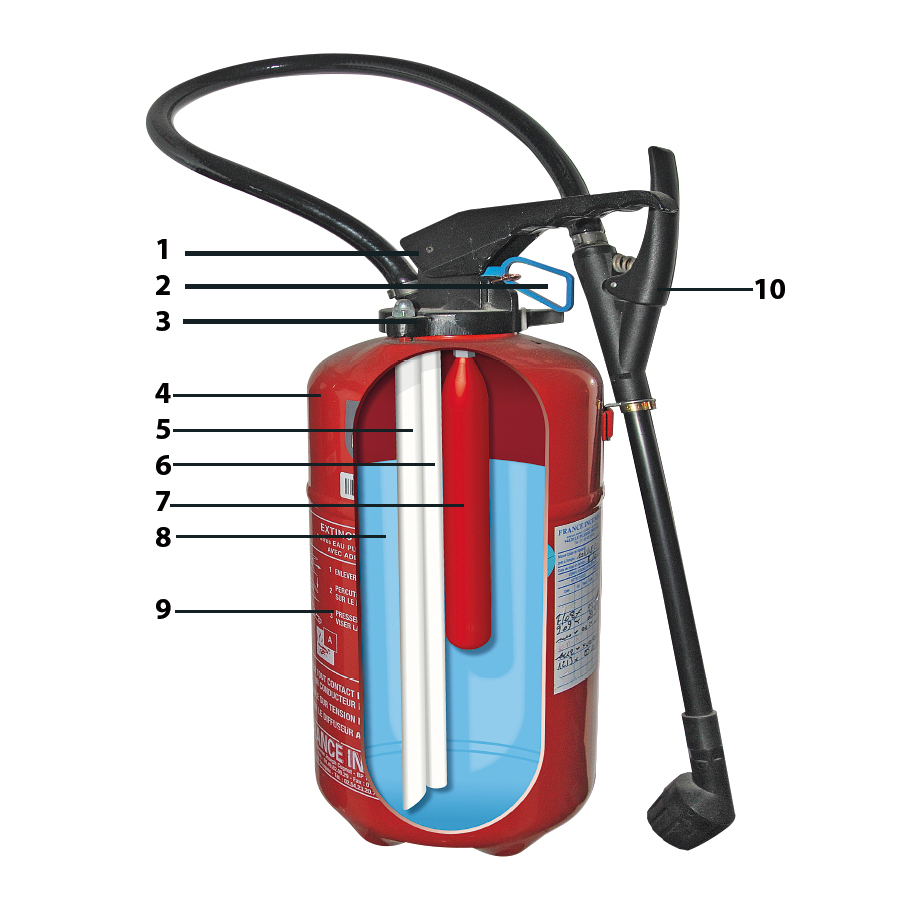Extincteur: (323, 98, 636, 366)
